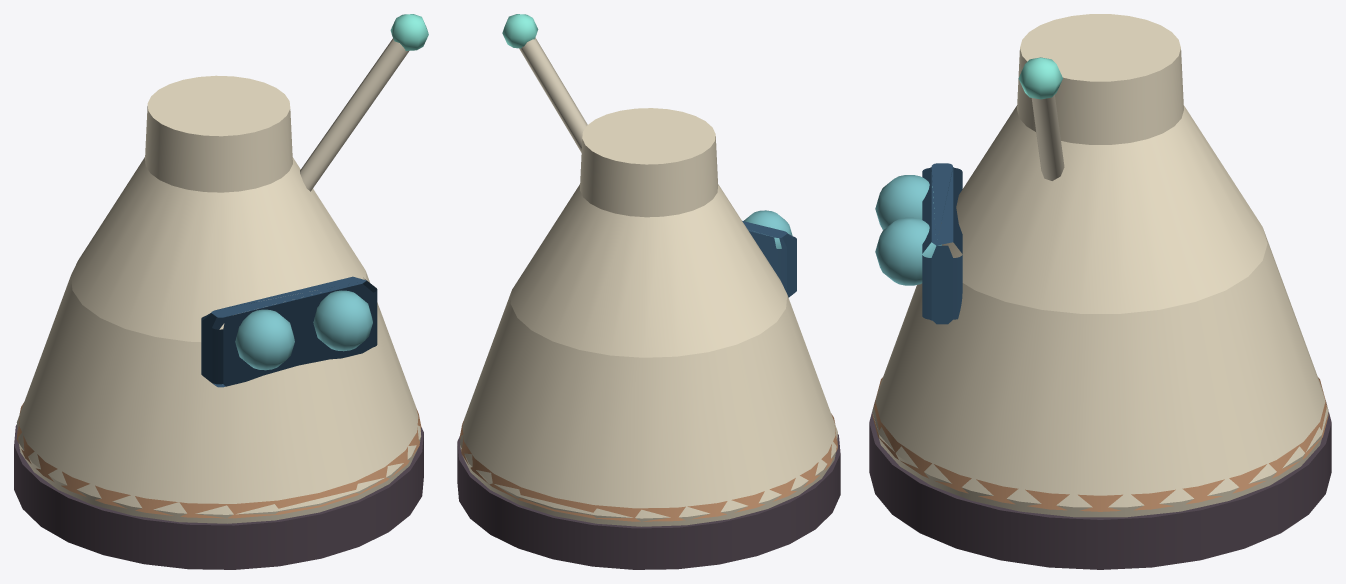
Rendered from capsula-en-vuelo.obj.
3 views of the same model, side by side, from view 1: azimuth 30°, elevation 25°; view 2: azimuth 150°, elevation 25°; view 3: azimuth 270°, elevation 25° (orthographic). The views are drawn at different scales.
Visible parts, largest first — view 1: capsula-en-vuelo; view 2: capsula-en-vuelo; view 3: capsula-en-vuelo.
Boxes of the visible parts, <box> form: capsula-en-vuelo: <box>14,14,428,569</box>; capsula-en-vuelo: <box>457,14,840,569</box>; capsula-en-vuelo: <box>869,14,1331,569</box>.
Bounding box in the file's own units: 0.313 × 0.376 × 0.31.
